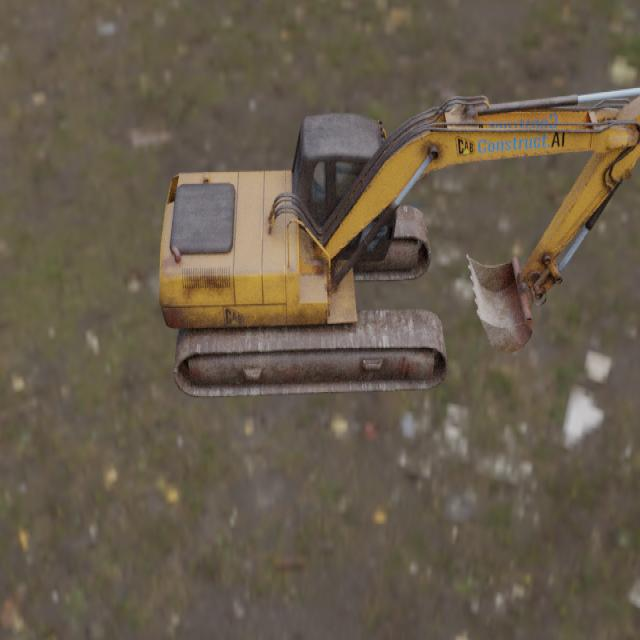excavator: (158, 87, 640, 397)
